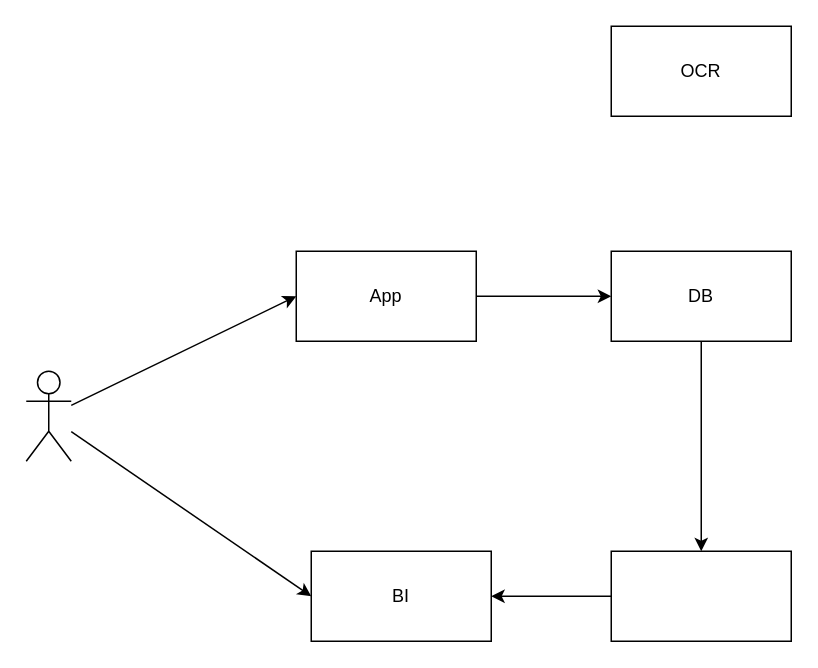
Some shapes in this 818 by 668 pixel diagram are drawn without their labels. The centre of each missing label's shape, as x and y in pixels:
Actor: the point at 48,415
DWH: the point at 700,595
